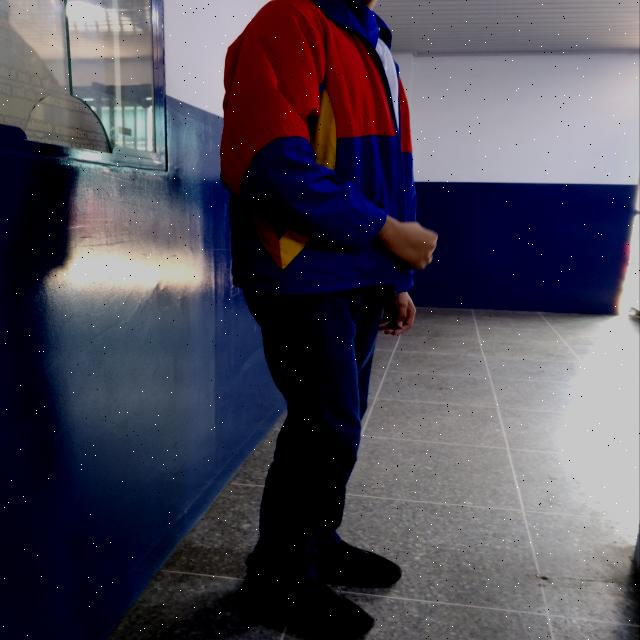chaqueta_unefa: (218, 0, 418, 295)
pantalon_oscuro: (240, 288, 387, 611)
